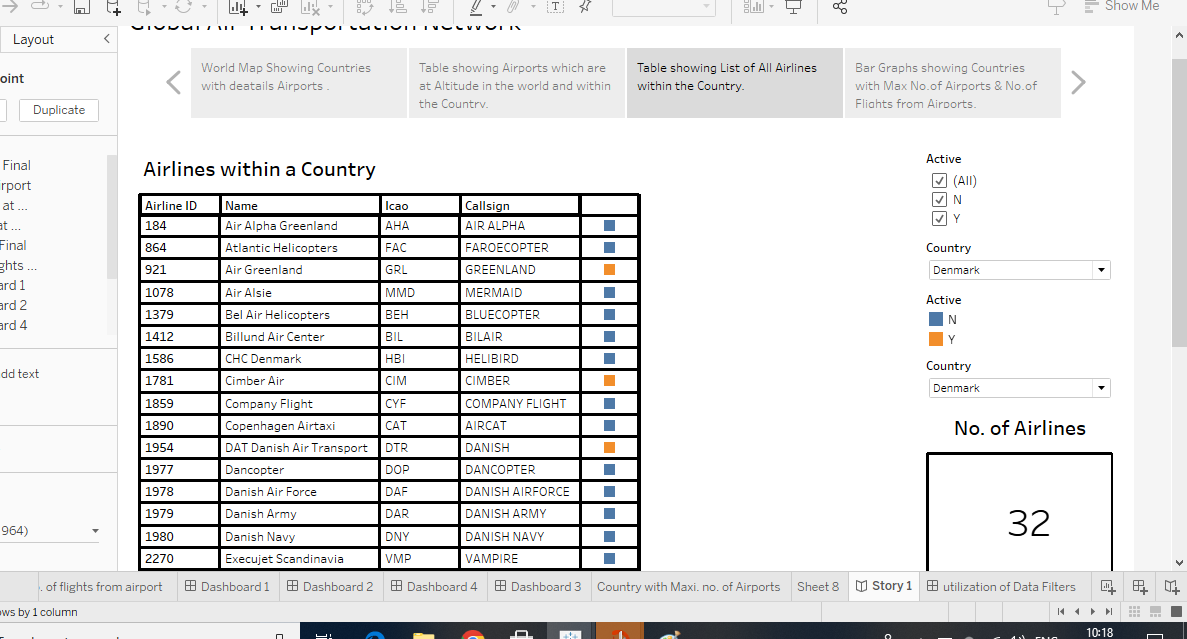

The page's visual inventory and layout, read from the dashboard file:
{"tool":"tableau","page":{"name":"Dashboard 3","canvas":[1000,800],"ordinal":2},"visuals":[{"type":"worksheet","title":"Airlines Final","mark":"Automatic","rows":["Airline ID","Name","ICAO","Callsign"],"box":[8,8,788,784]},{"type":"filter","title":"Airlines Final","param":"[federated.12byijz1si6xmv18ua5wi1x2ltqk].[none:Active:nk]","box":[796,8,196,89]},{"type":"filter","title":"Airlines Final","param":"[federated.12byijz1si6xmv18ua5wi1x2ltqk].[none:Country:nk]","box":[796,97,196,52]},{"type":"legend","title":"Airlines Final","param":"[federated.12byijz1si6xmv18ua5wi1x2ltqk].[none:Active:nk]","box":[796,149,196,66]},{"type":"filter","title":"Sheet 8","param":"[federated.12byijz1si6xmv18ua5wi1x2ltqk].[none:Country:nk]","box":[796,215,196,52]},{"type":"worksheet","title":"Sheet 8","mark":"Automatic","box":[796,267,196,208]}]}

Visuals, with their boxes on the page's 1000x800 design canvas (x1, y1, x2, y2). These are canvas units, not pixel positions in the 1187x639 screenshot, which may show the page scaled, cropped or inside an application window:
"Airlines Final" worksheet: x1=8 y1=8 x2=796 y2=792
"Airlines Final" filter: x1=796 y1=8 x2=992 y2=97
"Airlines Final" filter: x1=796 y1=97 x2=992 y2=149
"Airlines Final" legend: x1=796 y1=149 x2=992 y2=215
"Sheet 8" filter: x1=796 y1=215 x2=992 y2=267
"Sheet 8" worksheet: x1=796 y1=267 x2=992 y2=475
